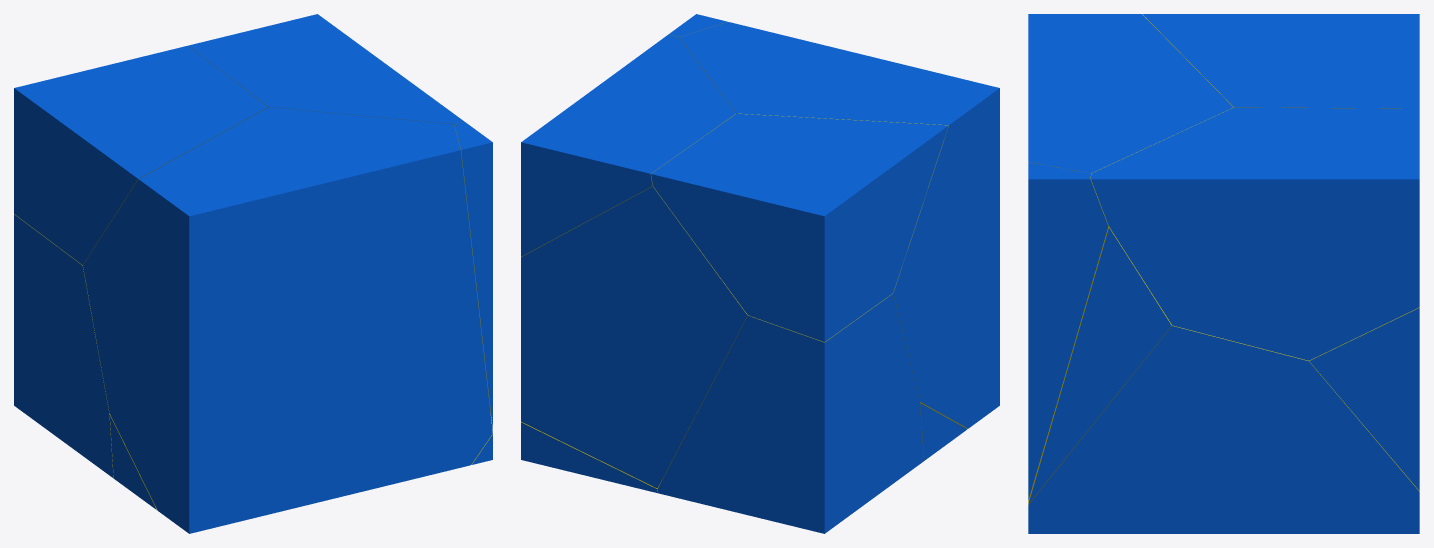
Rendered from Ikea_fracture_cube.fbx.
3 views of the same model, side by side, from view 1: azimuth 30°, elevation 25°; view 2: azimuth 150°, elevation 25°; view 3: azimuth 270°, elevation 25° (orthographic). The views are drawn at different scales.
Visible parts, largest first — view 1: Cube_cell.001, Cube_cell.003, Cube_cell.002, Cube_cell.007, Cube_cell.005, Cube_cell; view 2: Cube_cell.006, Cube_cell.003, Cube_cell.001, Cube_cell.002, Cube_cell.007, Cube_cell.004, Cube_cell, Cube_cell.005; view 3: Cube_cell.007, Cube_cell.004, Cube_cell.001, Cube_cell.003, Cube_cell.005, Cube_cell.006.
Part boxes in pixels (x1,y1,x2,y2): Cube_cell.001: (83, 107, 492, 533); Cube_cell.003: (14, 45, 268, 264); Cube_cell.002: (14, 214, 113, 478); Cube_cell.007: (188, 14, 464, 124); Cube_cell.005: (454, 122, 492, 429); Cube_cell: (109, 415, 156, 509); Cube_cell.006: (521, 186, 747, 488); Cube_cell.003: (651, 113, 948, 341); Cube_cell.001: (679, 22, 999, 428); Cube_cell.002: (657, 293, 923, 533); Cube_cell.007: (521, 34, 735, 256); Cube_cell.004: (521, 422, 661, 493); Cube_cell: (920, 403, 967, 460); Cube_cell.005: (668, 14, 727, 37); Cube_cell.007: (1091, 107, 1419, 360); Cube_cell.004: (1028, 325, 1419, 533); Cube_cell.001: (1028, 14, 1233, 504); Cube_cell.003: (1142, 14, 1419, 108); Cube_cell.005: (1028, 162, 1108, 499); Cube_cell.006: (1309, 307, 1419, 490).
Bounding box in the file's own units: 200 × 200 × 200.
